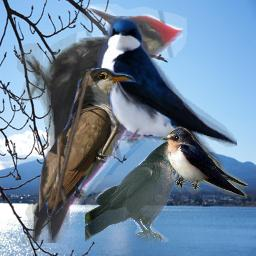Crow: (85, 140, 197, 242)
Cuckoo: (39, 68, 157, 217)
Swallow: (97, 16, 237, 169), (161, 126, 248, 199)
Woodpecker: (17, 4, 187, 243)
